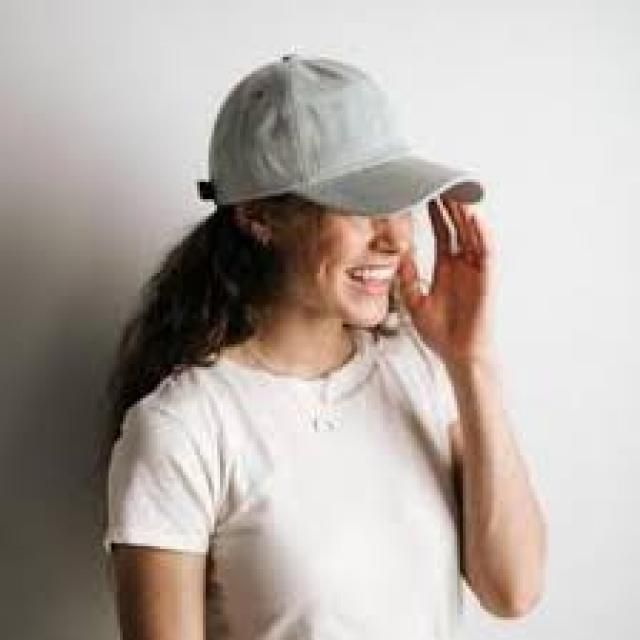cap: (178, 35, 494, 272)
